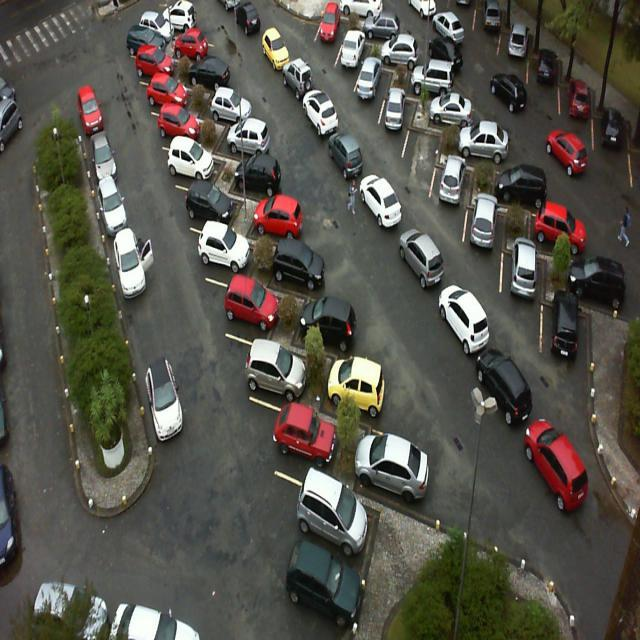space-empty: (400, 122, 442, 182)
space-occupied: (304, 468, 388, 582), (271, 390, 348, 479), (317, 353, 388, 431), (365, 425, 432, 507), (245, 326, 312, 406), (223, 270, 286, 343), (302, 288, 362, 358), (272, 235, 337, 297), (570, 260, 630, 322), (542, 303, 591, 374), (204, 224, 262, 281), (254, 192, 315, 246), (192, 176, 248, 234), (237, 148, 295, 200), (533, 205, 585, 263), (468, 198, 507, 272), (503, 241, 543, 312), (202, 78, 258, 127), (496, 165, 552, 214), (171, 139, 224, 188), (431, 163, 472, 225), (158, 101, 207, 151), (464, 124, 514, 170), (315, 9, 352, 68), (380, 92, 416, 152), (222, 117, 272, 160), (410, 61, 458, 104), (354, 63, 392, 116), (335, 40, 372, 94), (151, 75, 197, 116), (561, 75, 590, 136), (139, 46, 182, 87), (434, 94, 478, 134), (175, 31, 220, 68), (366, 11, 411, 48), (192, 58, 237, 94), (500, 30, 532, 79), (529, 50, 560, 100), (389, 38, 428, 74)
